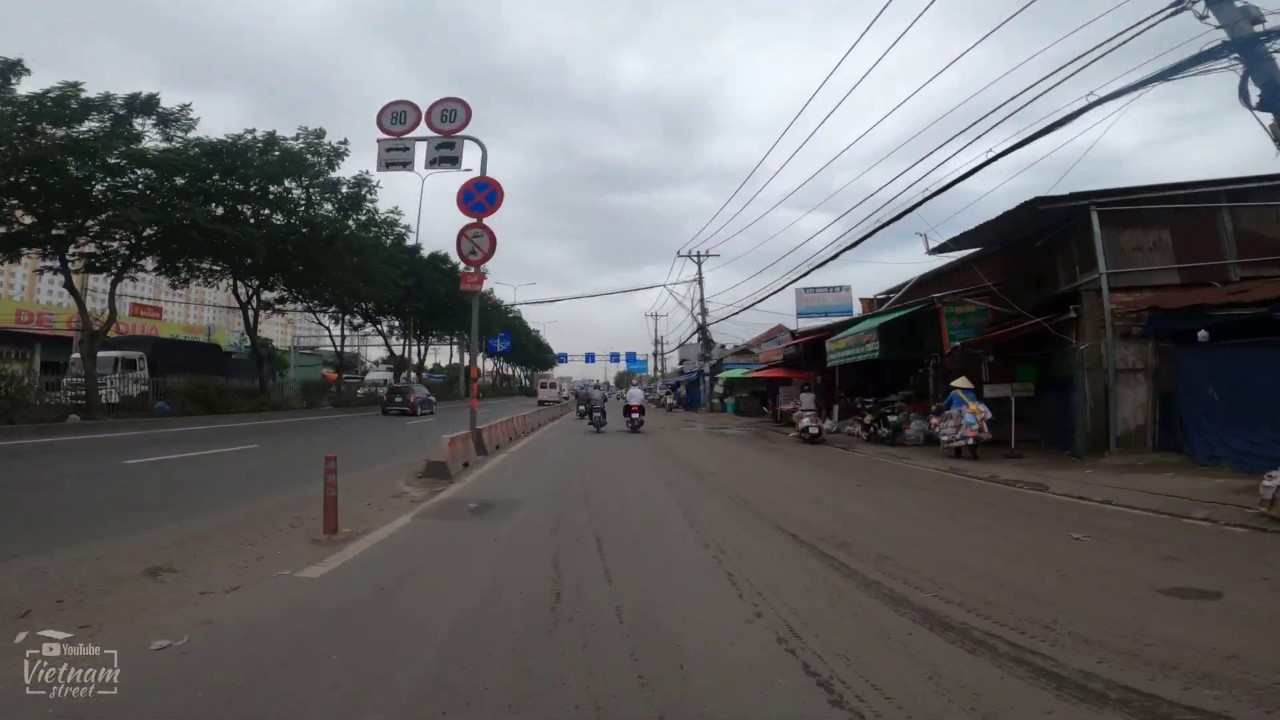gioi_han_60km: (425, 95, 474, 136)
gioi_han_80km: (376, 98, 423, 137)
